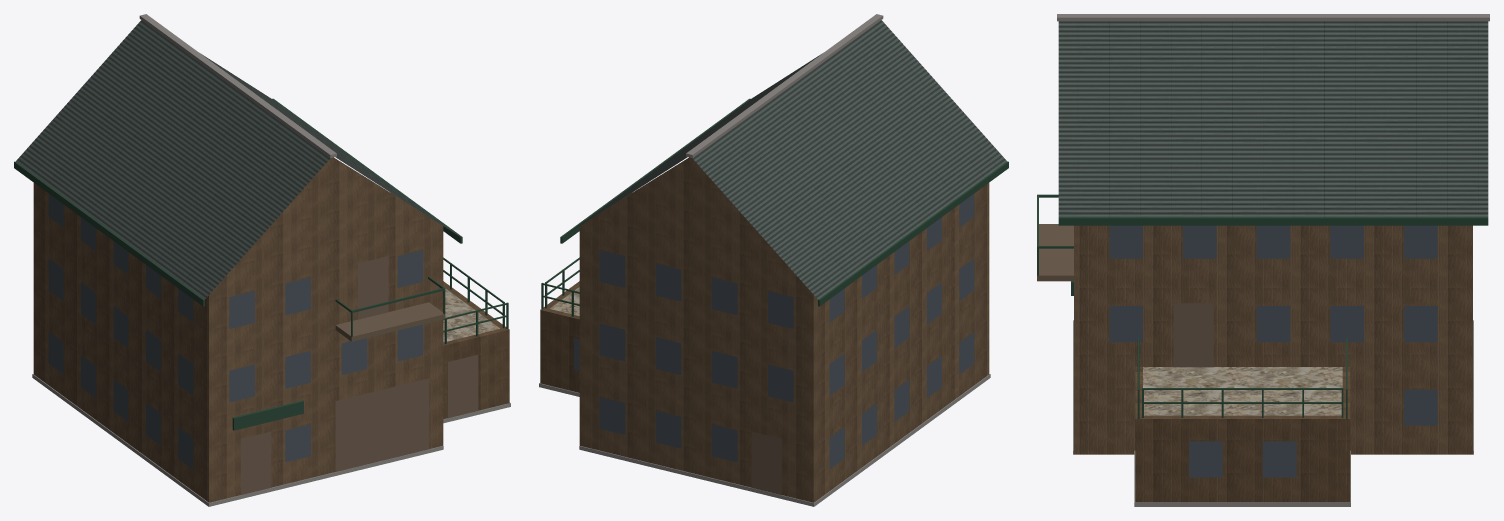
The model's file is rw-boathouse.towns-v1.lod1.glb.
The picture shows the model from 3 angles, left to right: view 1: azimuth 30°, elevation 25°; view 2: azimuth 150°, elevation 25°; view 3: azimuth 270°, elevation 25°; orthographic projection. The views are drawn at different scales.
Parts seen in each view (by area): view 1: rw-boathouse; view 2: rw-boathouse; view 3: rw-boathouse.
Part boxes in pixels (left/top/right/bottom): rw-boathouse: left=14, top=14, right=510, bottom=506; rw-boathouse: left=539, top=14, right=1008, bottom=506; rw-boathouse: left=1037, top=14, right=1489, bottom=506.
Size of the model in its own units: 14.57 by 13.44 by 14.75.
4 materials, 3 textured.
